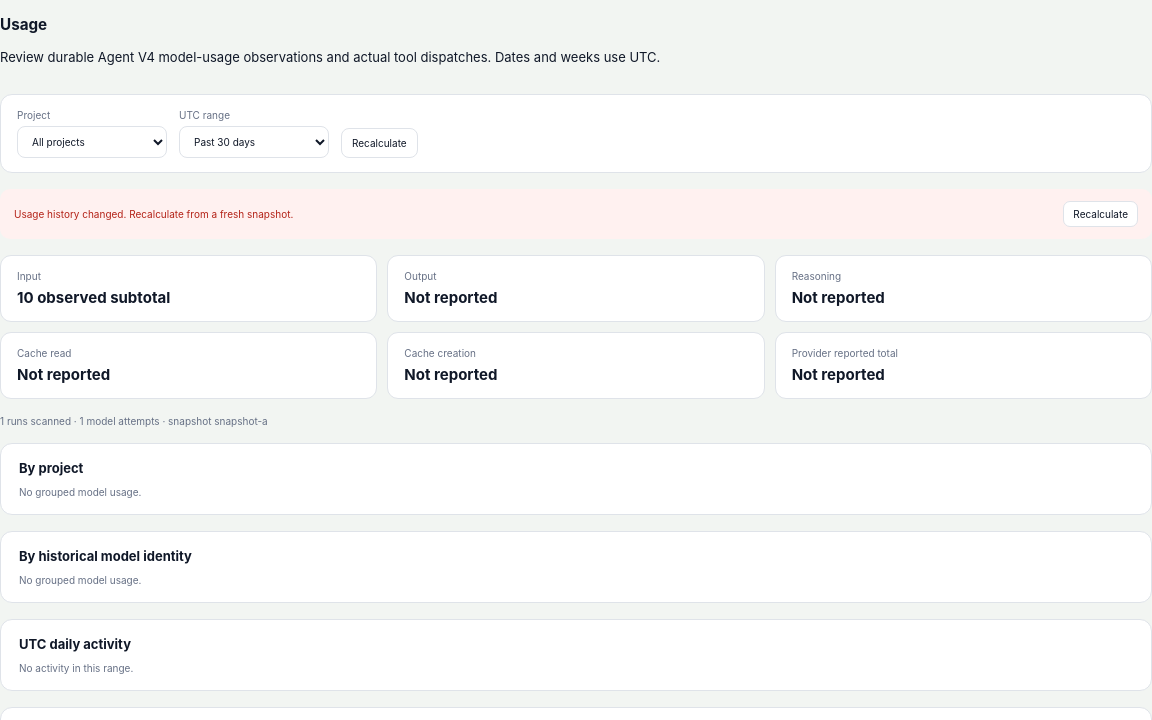
Test: UsageSettings › catches a changed snapshot outside React state updates and can recalculate
The width and height of the screenshot is (1152, 720).
Expected: the message shows "Usage history changed", [14,208,293,220]
Expected: the text "10 observed subtotal" is shown, [17,288,170,307]
Step 1. Click the 2nd button "Recalculate" → click(1101, 214), box [1063,201,1138,227]
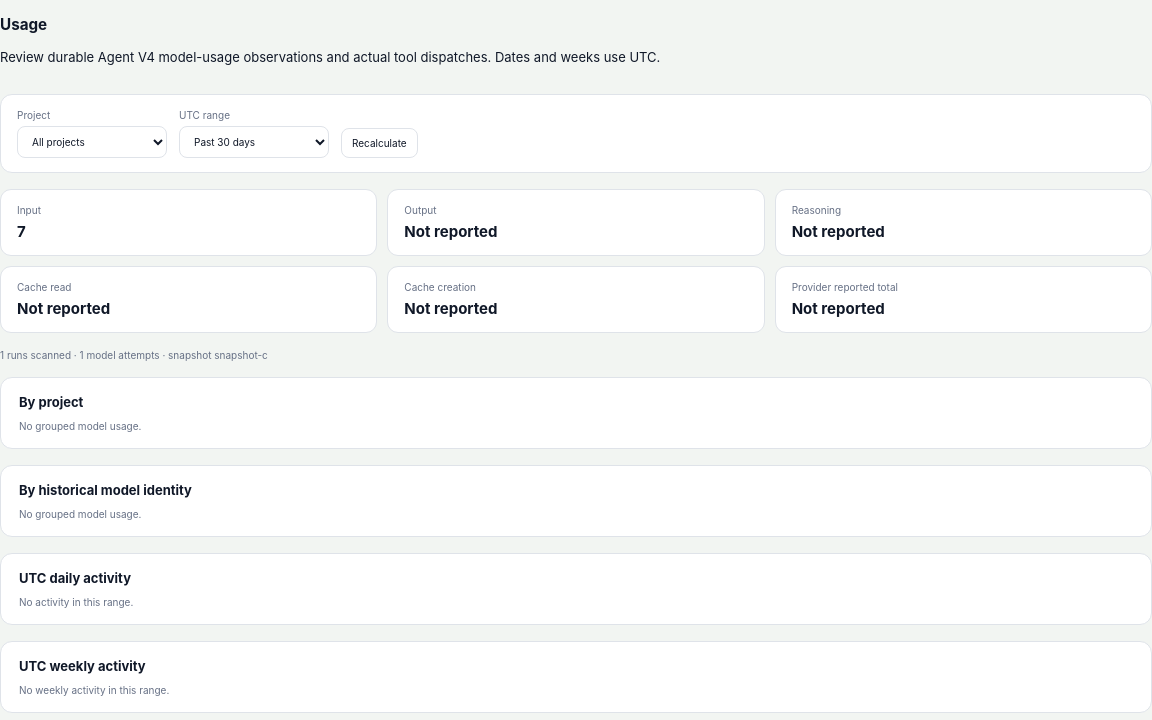
Expected: the text "7" is shown, [17,222,26,241]
